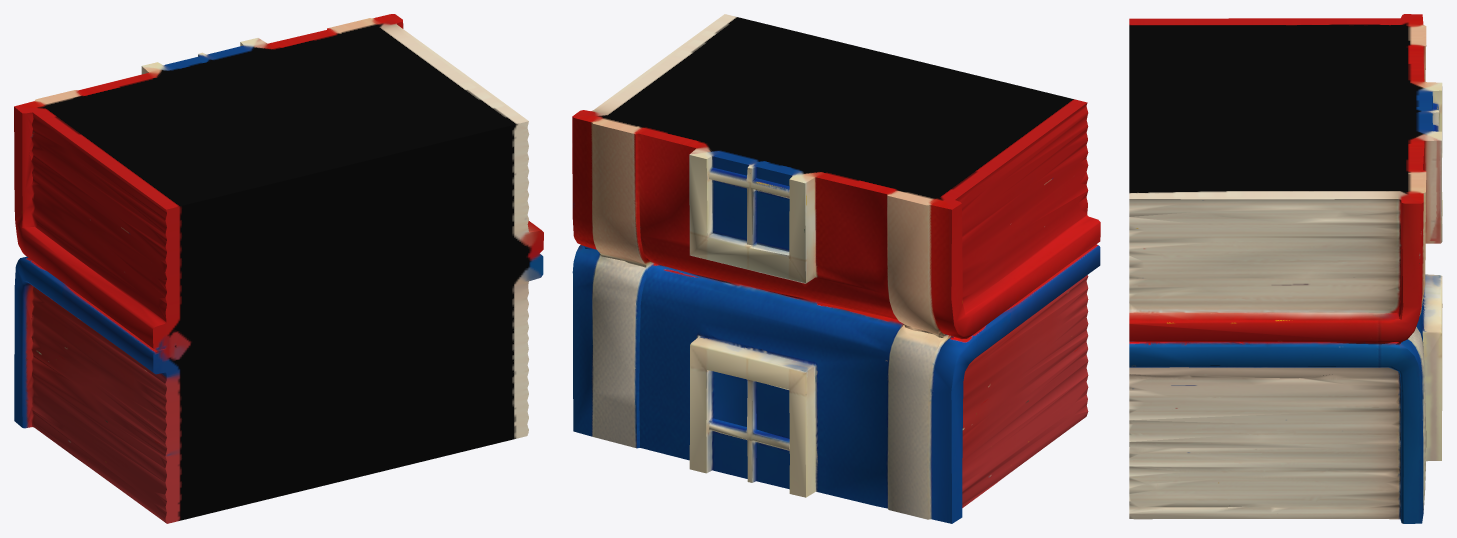
Rendered from 8-upper-walls-back-right.fbx.
3 views of the same model, side by side, from view 1: azimuth 30°, elevation 25°; view 2: azimuth 150°, elevation 25°; view 3: azimuth 270°, elevation 25° (orthographic).
Visible parts, largest first — view 1: upper-walls-back-right; view 2: upper-walls-back-right; view 3: upper-walls-back-right.
Part boxes in pixels (left/top/right/bottom): upper-walls-back-right: left=14, top=14, right=543, bottom=523; upper-walls-back-right: left=572, top=14, right=1100, bottom=523; upper-walls-back-right: left=1129, top=14, right=1442, bottom=523.
Size of the model in its own units: 3890 by 2984 by 2642.
Materials: 1 (1 with a texture image).
